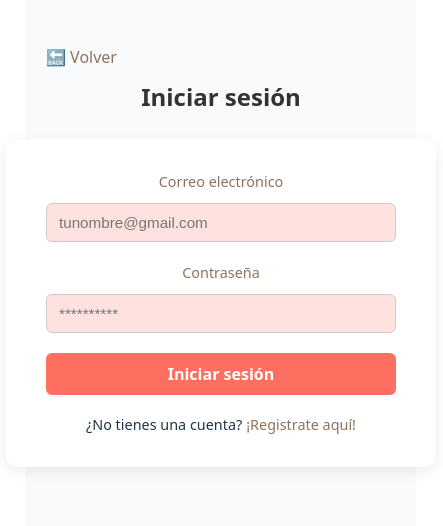
it: LoginPage › shows validation errors when submitting empty form
The width and height of the screenshot is (443, 526).
Click the button "Iniciar sesión".
click(221, 374)  # box [46,352,396,394]
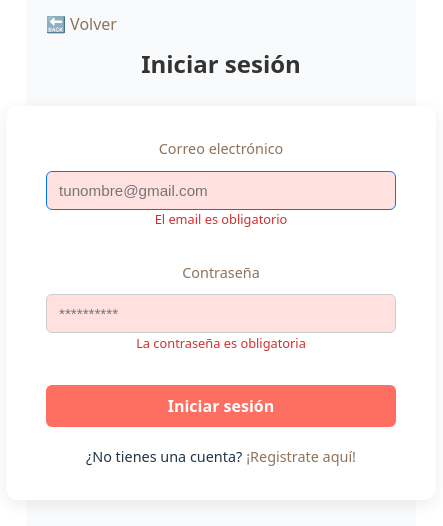
Result: the text "El email es obligatorio" is shown at [155,210,287,228]
Result: the text "La contraseña es obligatoria" is shown at [136,334,306,352]
